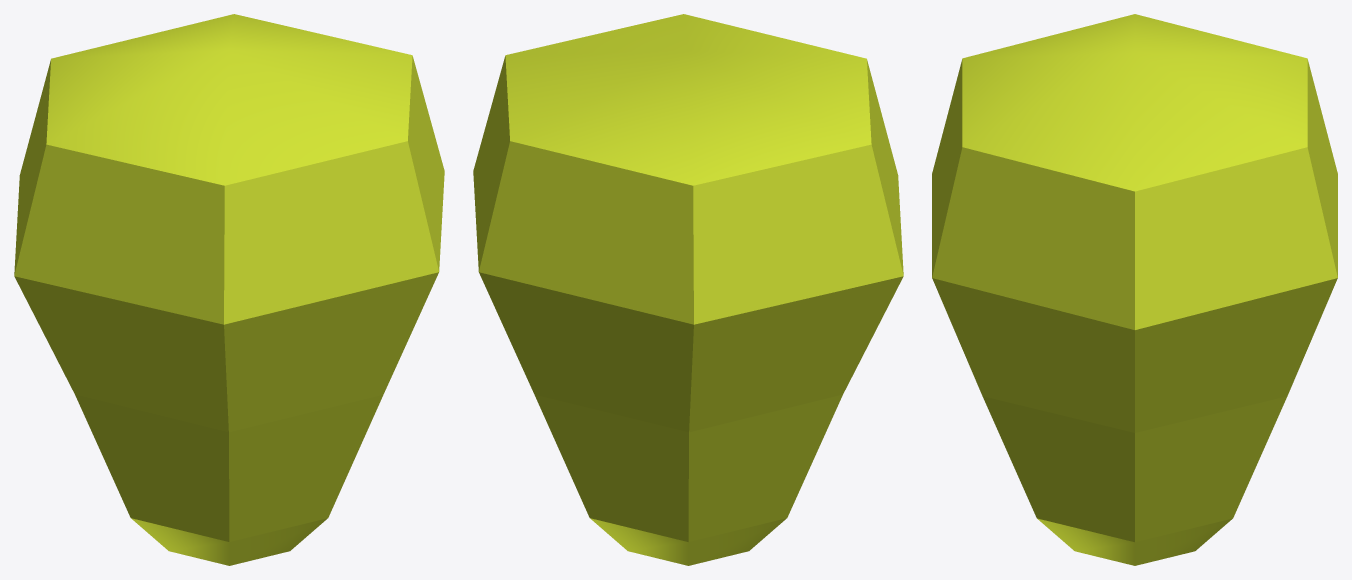
Rendered from Dungeon Lever Handle.fbx.
3 views of the same model, side by side, from view 1: azimuth 30°, elevation 25°; view 2: azimuth 150°, elevation 25°; view 3: azimuth 270°, elevation 25° (orthographic).
Parts seen in each view (by area): view 1: Dungeon Lever; view 2: Dungeon Lever; view 3: Dungeon Lever.
Boxes of the visible parts, x1,y1,x2,y2 form: Dungeon Lever: [14, 14, 444, 565]; Dungeon Lever: [473, 14, 903, 565]; Dungeon Lever: [932, 14, 1337, 565].
Size of the model in its own units: 22.85 by 18.77 by 24.65.
